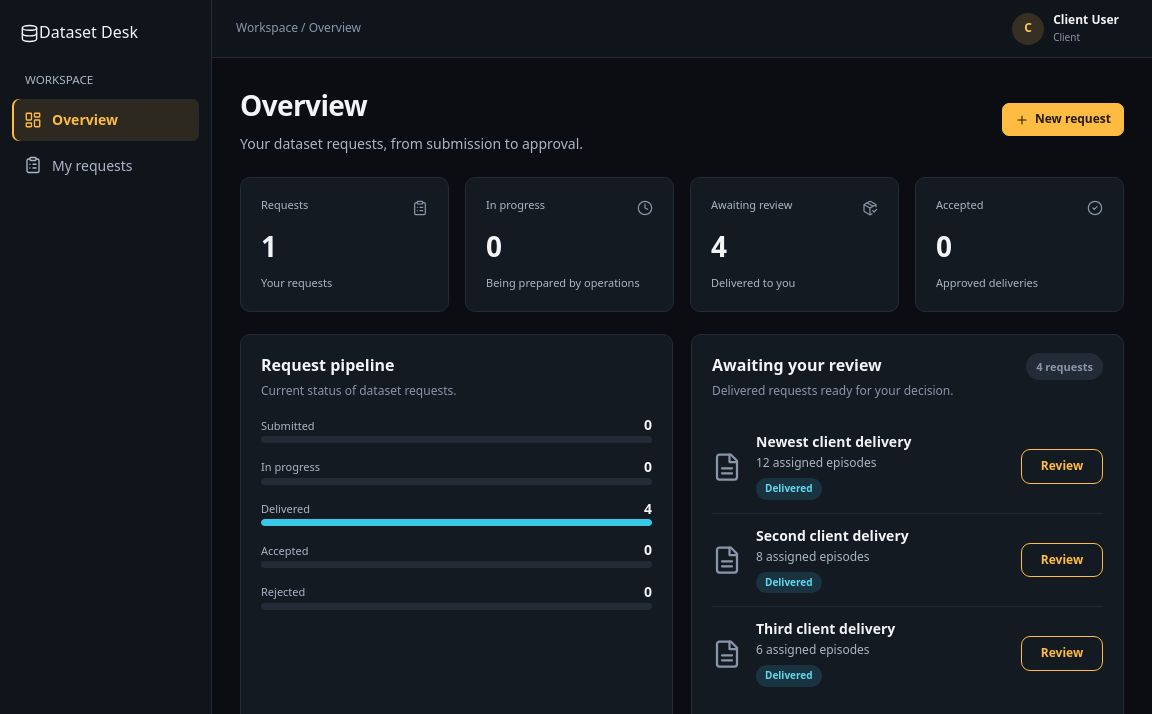
shows client-owned delivered requests with actual counts and refreshes after acceptance
This screenshot has width=1152, height=714.
Expected: the text "4 requests" is shown, [1026,353,1103,380]
Expected: the text "12 assigned episodes" is shown, [756,454,876,471]
What coordinates should you click on to do the following:
click the link with aria-label "Review Newest client delivery"
I would click on:
 (1062, 466)
Its box is [1021,449,1103,484].
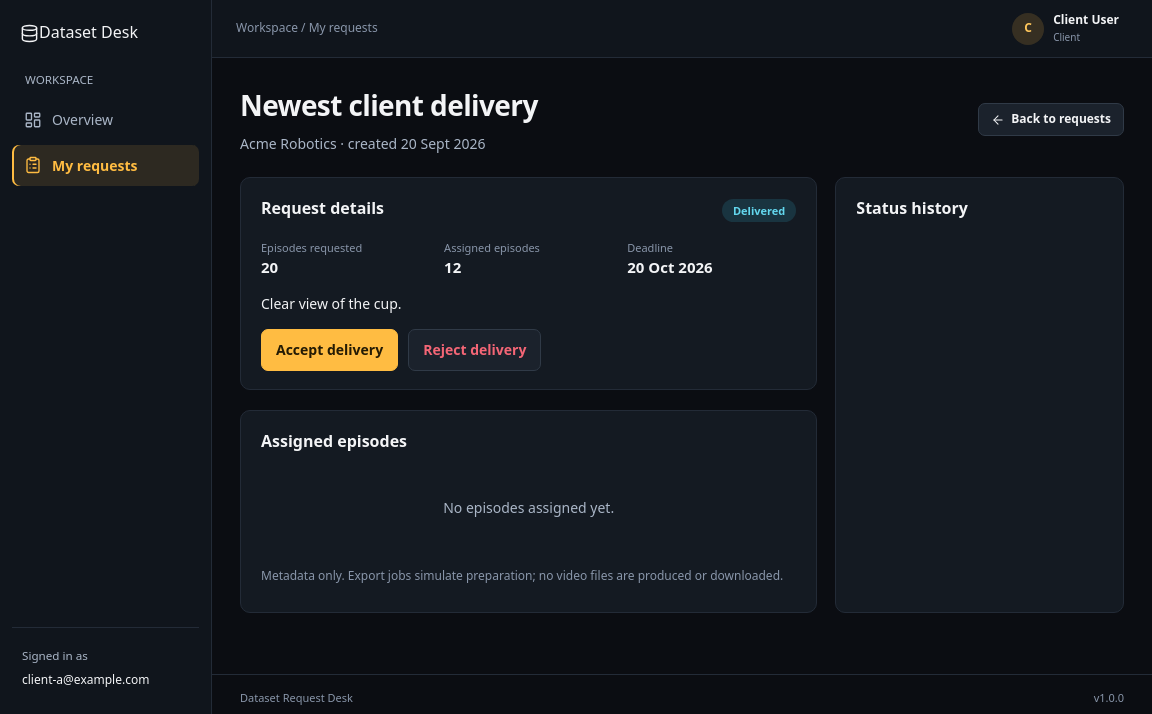
Expected: the heading "Request details" is shown, [261,196,384,221]
What coordinates should you click on to do the following:
click the button "Accept delivery"
I would click on:
 (330, 350)
Its box is [261,329,398,371].
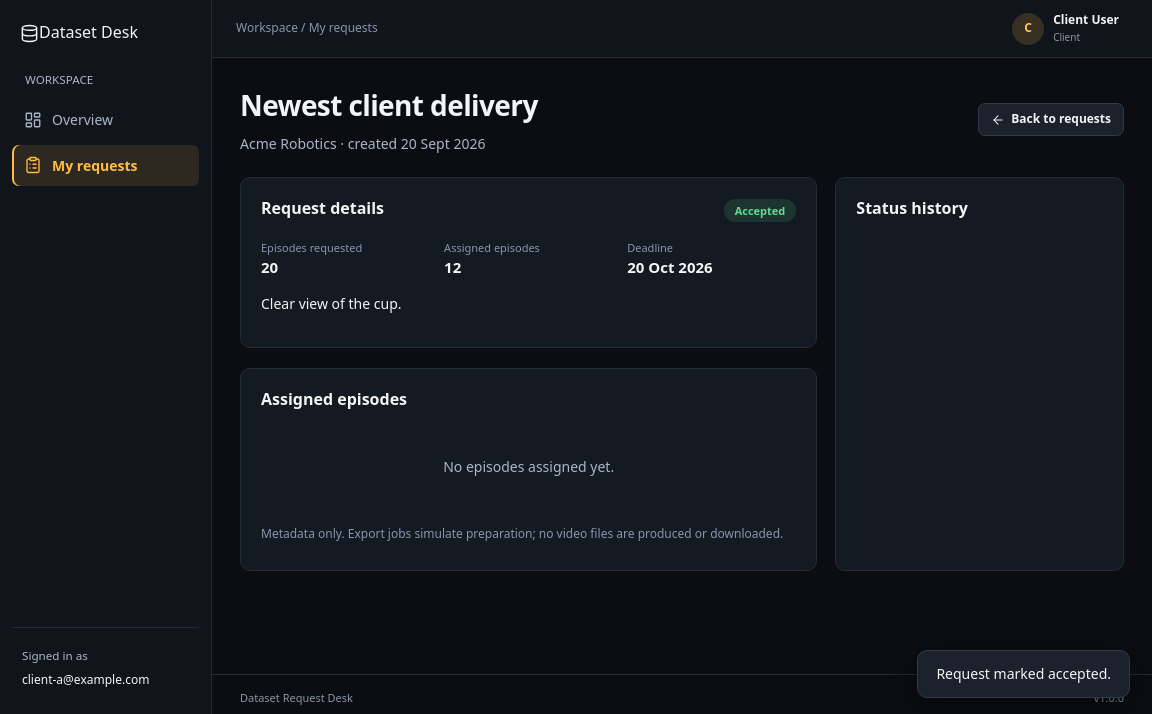
Expected: the text "Request marked accepted." is shown, [917,650,1130,698]
What coordinates should you click on to do the following:
click the link "Overview"
I would click on:
 (69, 119)
Its box is [24,110,113,129].
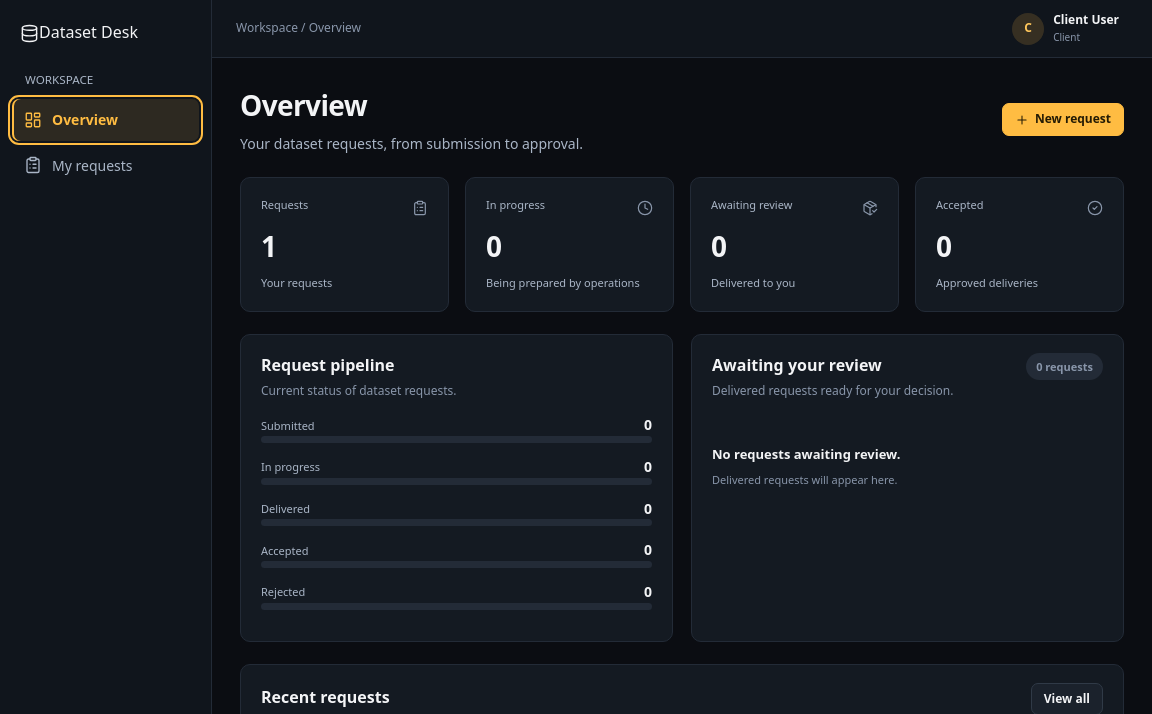
Expected: the text "No requests awaiting review." is shown, [712,445,900,463]
